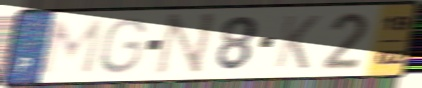2: (319, 10, 373, 73)
8: (214, 14, 260, 72)
G: (97, 16, 149, 76)
K: (271, 13, 323, 71)
M: (37, 17, 107, 76)
N: (151, 11, 219, 77)
